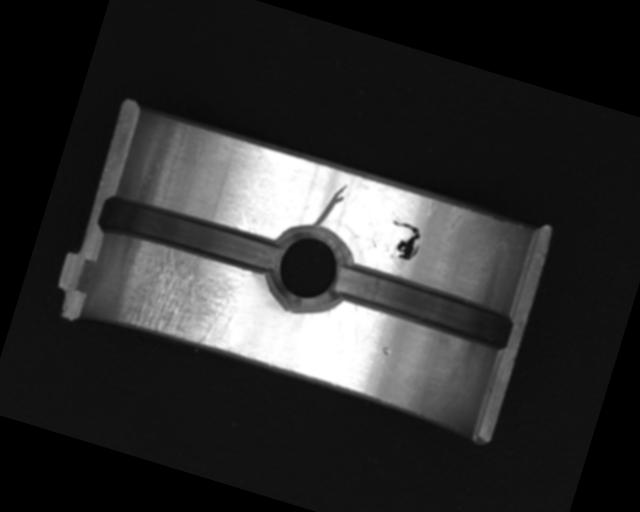blot: (381, 218, 426, 264)
bruise: (379, 343, 394, 357)
gap: (326, 256, 517, 357), (95, 189, 280, 281)
hole: (258, 218, 361, 322)
nick: (312, 177, 350, 234), (235, 209, 256, 233)
scratch: (106, 235, 253, 354)
